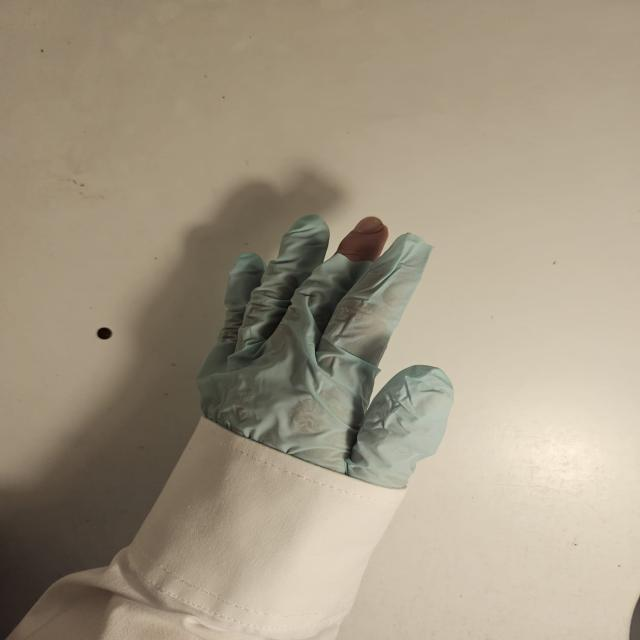gloves_damaged: (200, 209, 460, 490)
